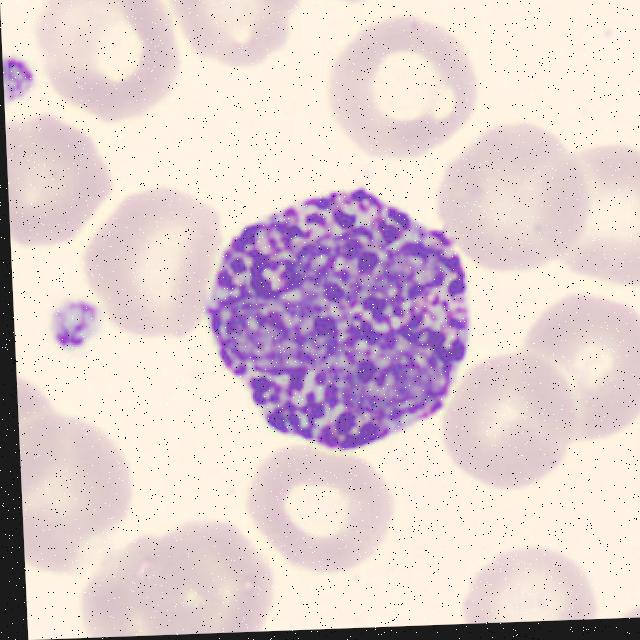basophil: (205, 192, 470, 448)
platelets: (50, 294, 110, 354), (1, 29, 39, 109)
rbc: (431, 118, 599, 269), (318, 21, 491, 162), (234, 437, 405, 572), (18, 409, 136, 586), (512, 289, 640, 443), (90, 197, 218, 331), (35, 0, 179, 117), (542, 133, 640, 297), (455, 360, 588, 480), (145, 517, 277, 635), (68, 541, 222, 638), (5, 104, 112, 241), (454, 536, 593, 624), (161, 0, 303, 70), (16, 358, 73, 510), (611, 582, 640, 618), (313, 0, 406, 8)
